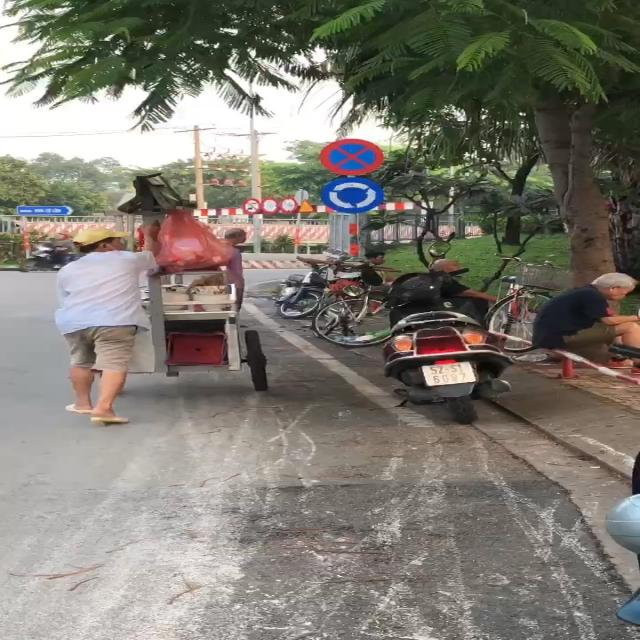Bien bao cam dung xe va do xe: (320, 137, 388, 174)
Bien bao noi giao nhau chay theo vong xuyen: (317, 174, 388, 213)
